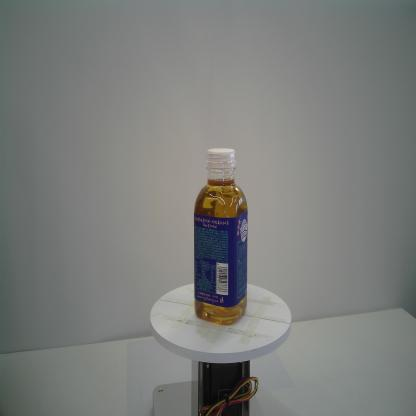Drink: (194, 147, 248, 326)
